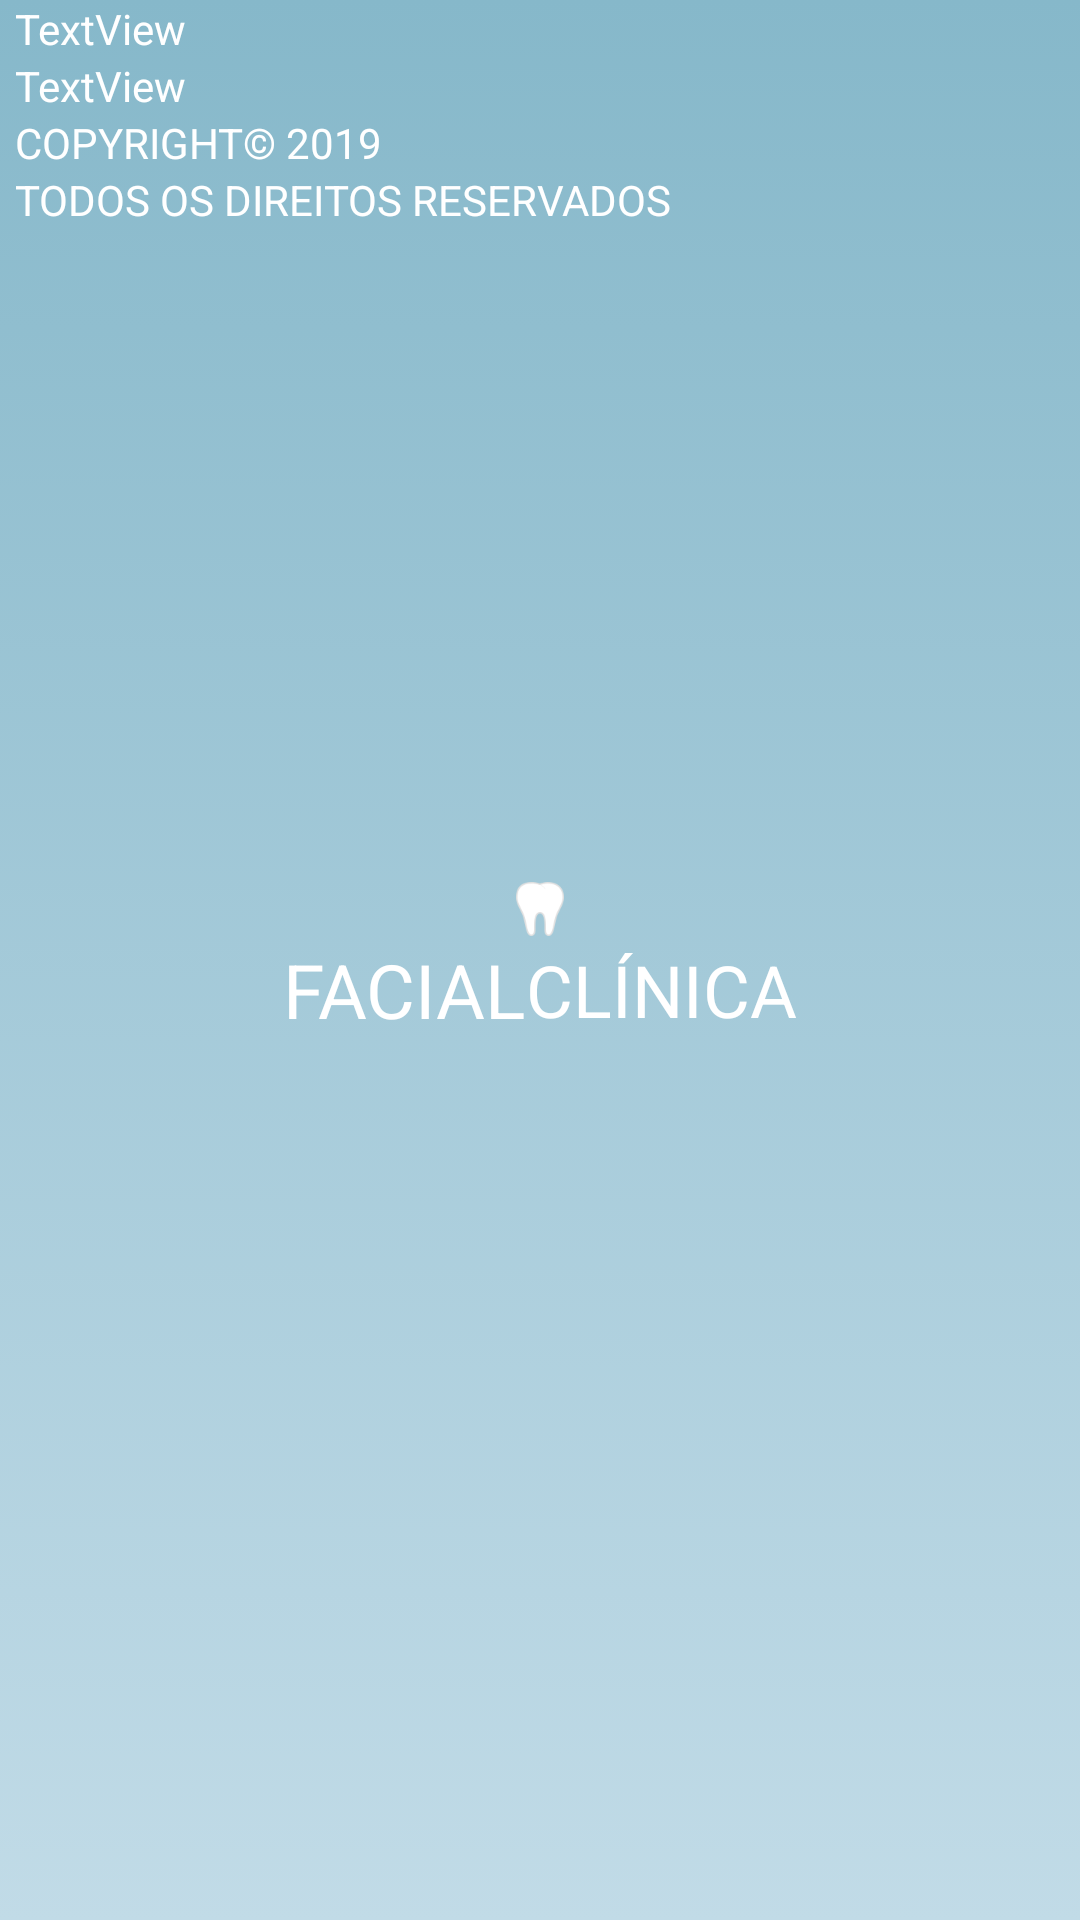

Icons on this 1080×1920 Android screen, each with the point to tap as (x=x, y=y):
dente: (x=540, y=909)
